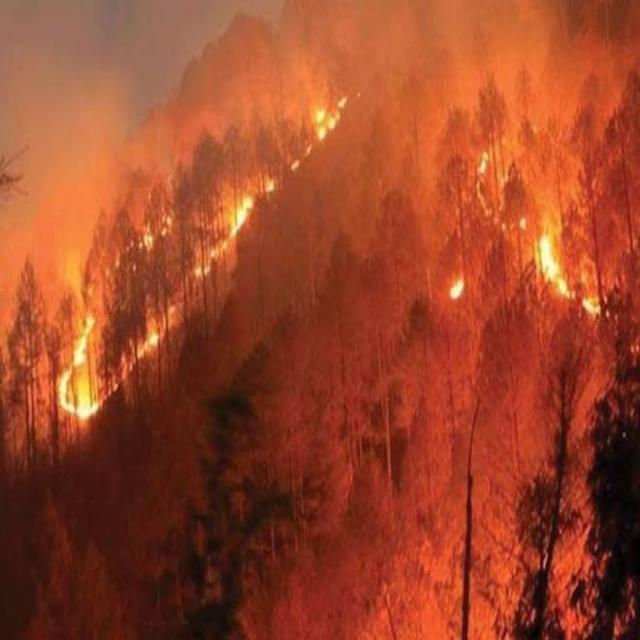Fire: (51, 318, 113, 436), (531, 232, 579, 308), (225, 198, 258, 233), (145, 325, 165, 349), (450, 278, 467, 305)
